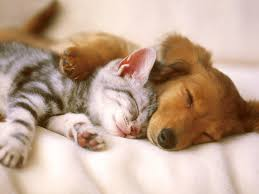cat: (1, 43, 156, 170)
dog: (150, 39, 259, 153)
